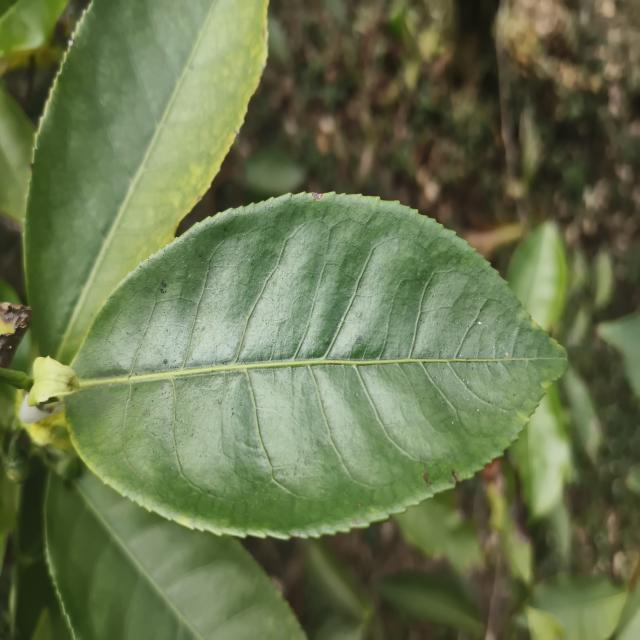Leaf: (66, 193, 566, 537), (24, 0, 268, 364), (45, 470, 306, 640), (511, 387, 571, 519), (394, 493, 482, 572), (379, 571, 483, 637), (507, 221, 568, 331), (529, 576, 626, 640), (0, 81, 35, 224), (0, 0, 67, 57), (246, 151, 305, 196)
